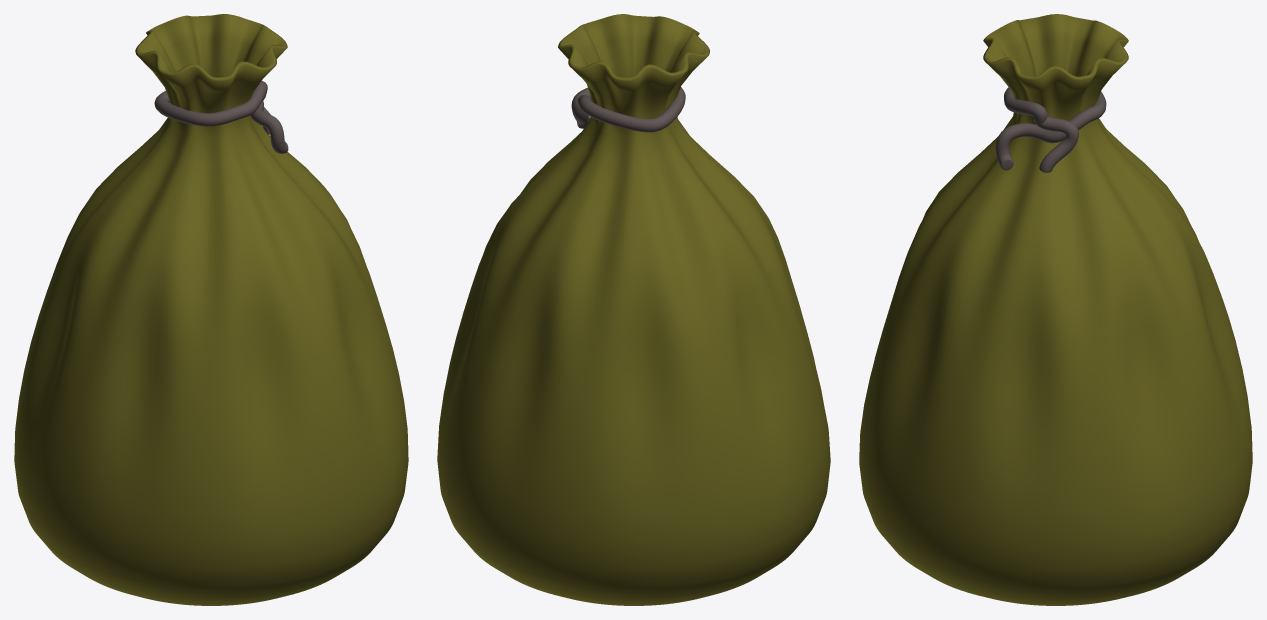
Rendered from M_Moneybag.fbx.
3 renders of one model, left to right at view 1: azimuth 30°, elevation 25°; view 2: azimuth 150°, elevation 25°; view 3: azimuth 270°, elevation 25°, orthographic.
Visible parts, largest first — view 1: MoneyBag; view 2: MoneyBag; view 3: MoneyBag.
Boxes of the visible parts, x1,y1,x2,y2 form: MoneyBag: (14, 14, 408, 605); MoneyBag: (437, 14, 830, 605); MoneyBag: (859, 14, 1252, 605).
Size of the model in its own units: 0.7207 by 1.08 by 0.7207.
